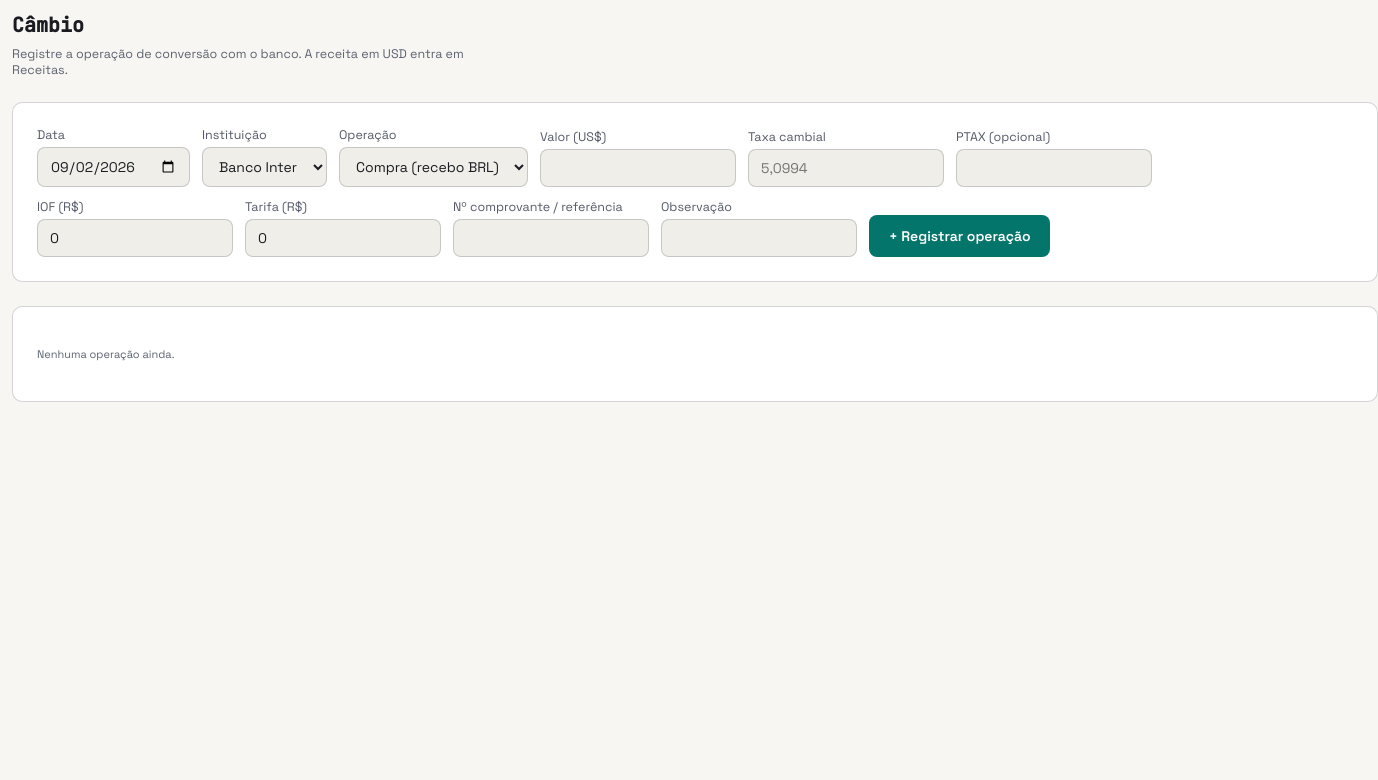
CambioPage › shows an error when create fails
The width and height of the screenshot is (1378, 780).
Type "2026-08-05" into the date field labelled "Data".
click(114, 167); type("2026-08-05")  # box x1=37 y1=147 x2=190 y2=187
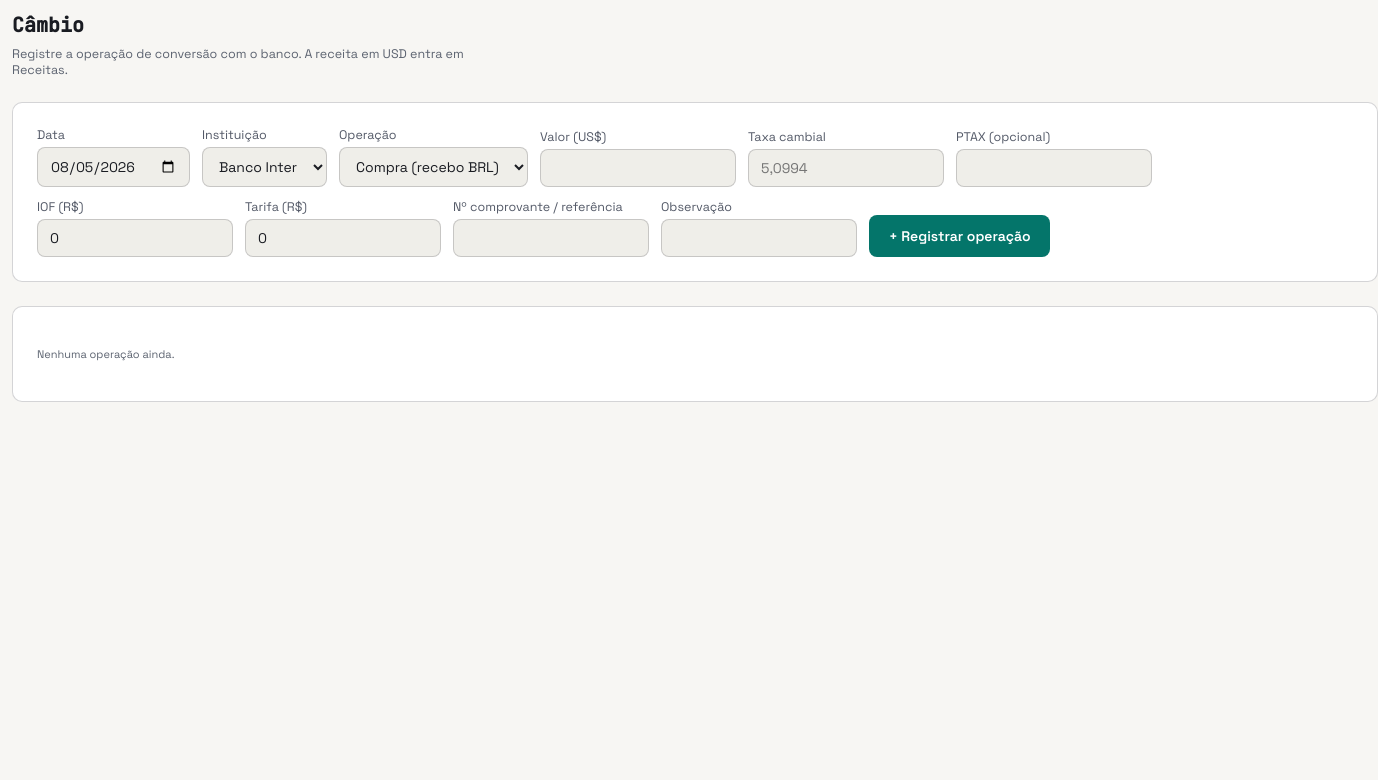
Type "5000" into the field labelled "Valor (US$)".
click(638, 168); type("5000")  # box x1=540 y1=149 x2=736 y2=187
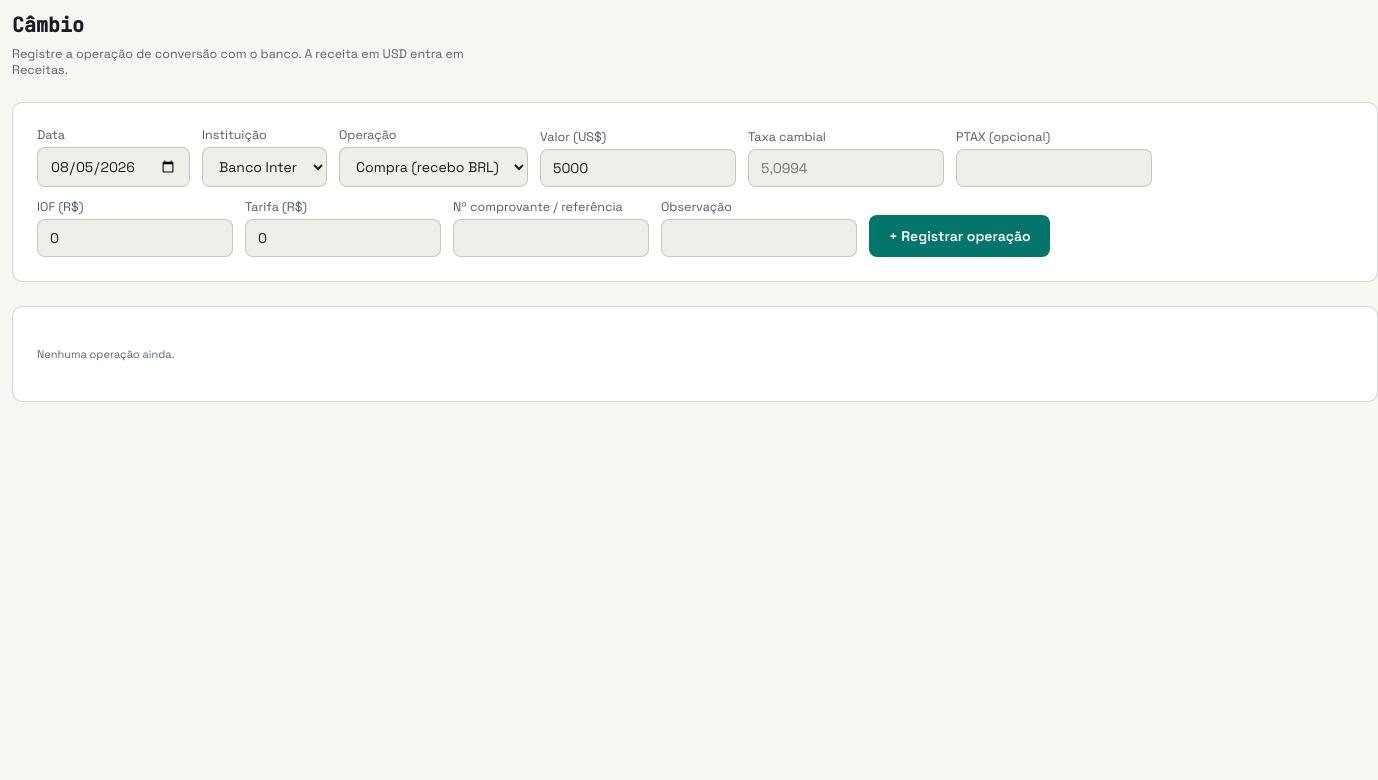
Type "5.0994" into the field labelled "Taxa cambial".
click(846, 168); type("5.0994")  # box x1=748 y1=149 x2=944 y2=187
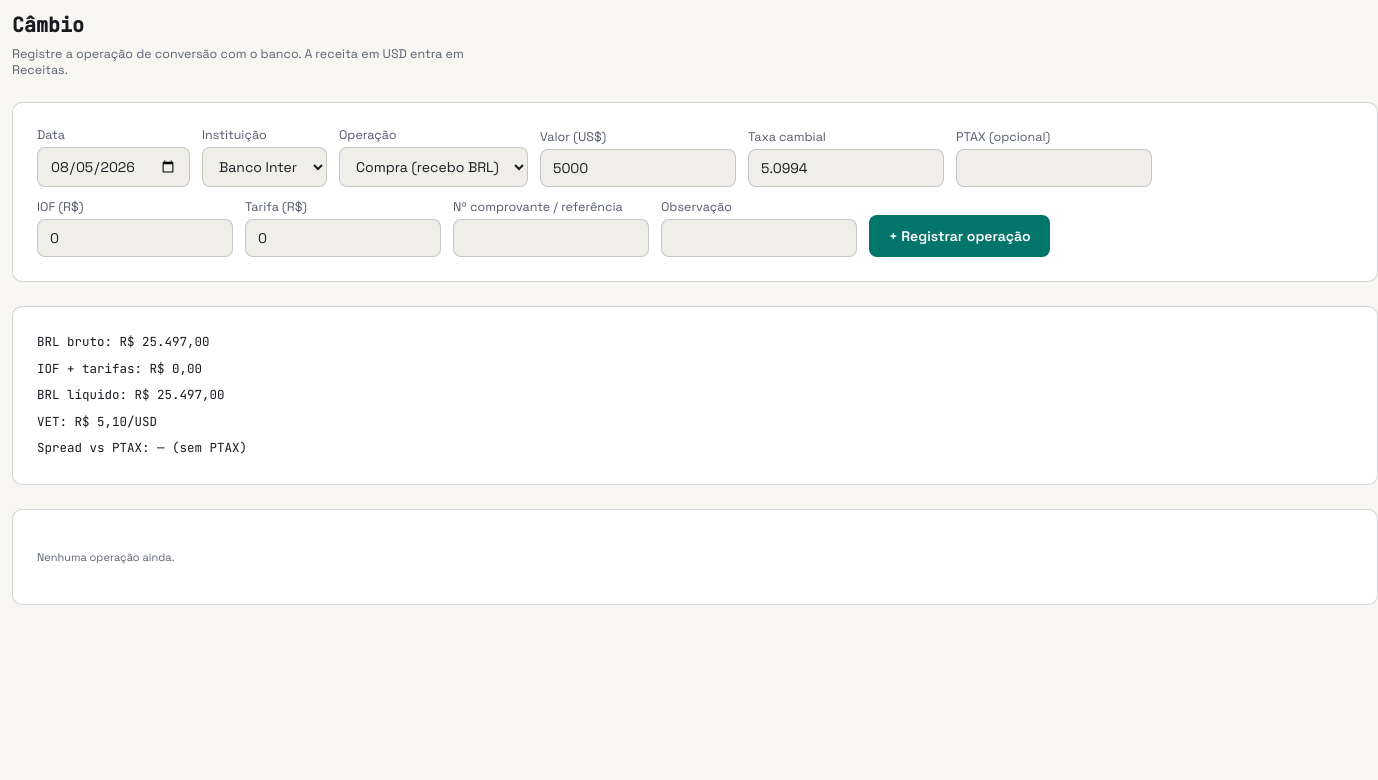
Click the button "+ Registrar operação".
click(960, 236)  # box x1=869 y1=215 x2=1050 y2=257
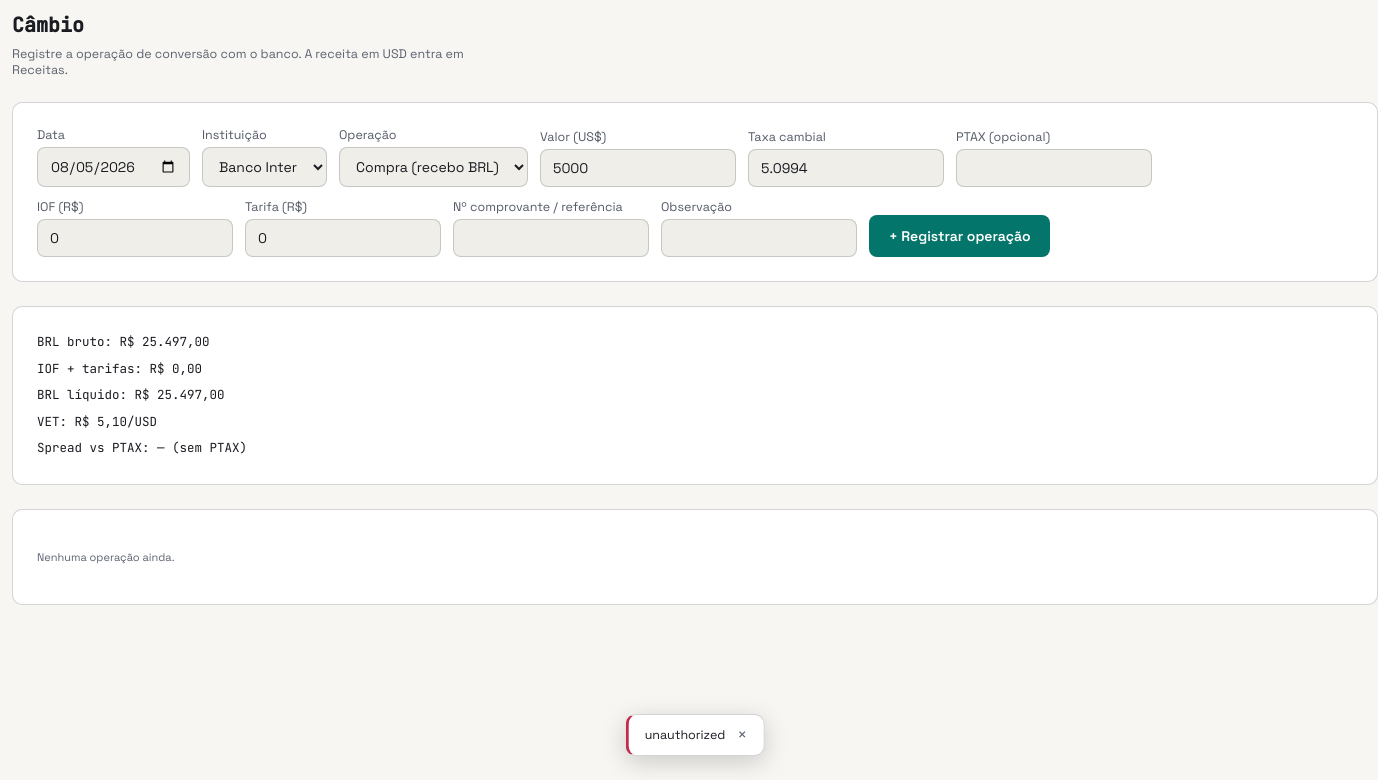
Expected: the text "unauthorized" is shown, x1=645 y1=727 x2=725 y2=743
